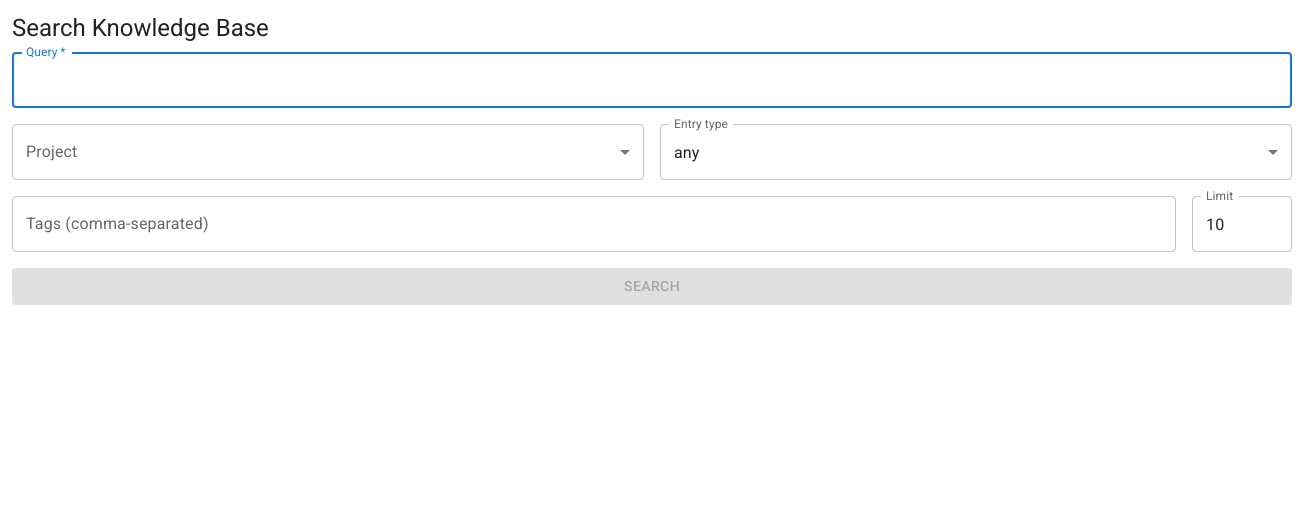
Test: Search page › reports stale-hidden results on a second line
Type "test" into the field labelled "Query *" at (652, 80), box [12,52,1292,108]
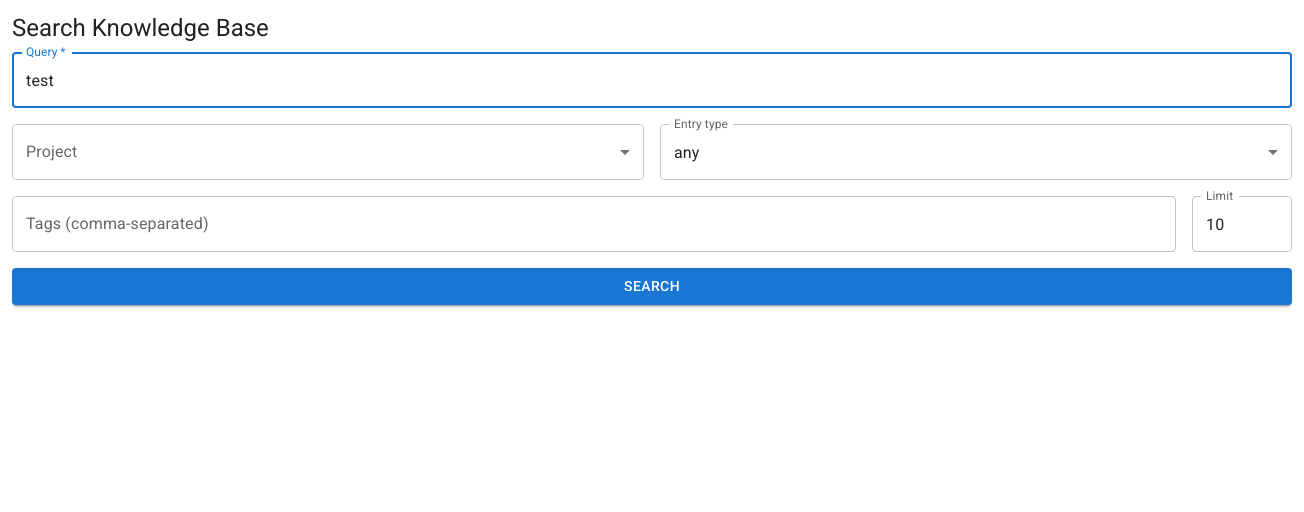
Click the button "Search" at (652, 287), box [12,268,1292,305]
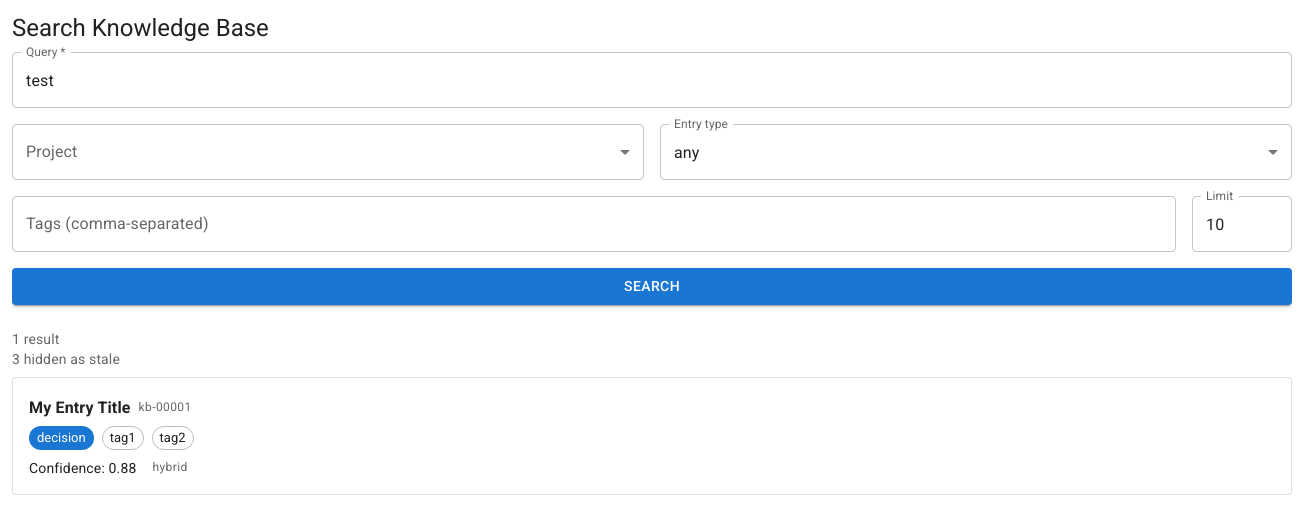
Expected: the text "1 result" is shown, [12,331,60,347]
Expected: the text "3 hidden as stale" is shown, [12,351,120,367]
